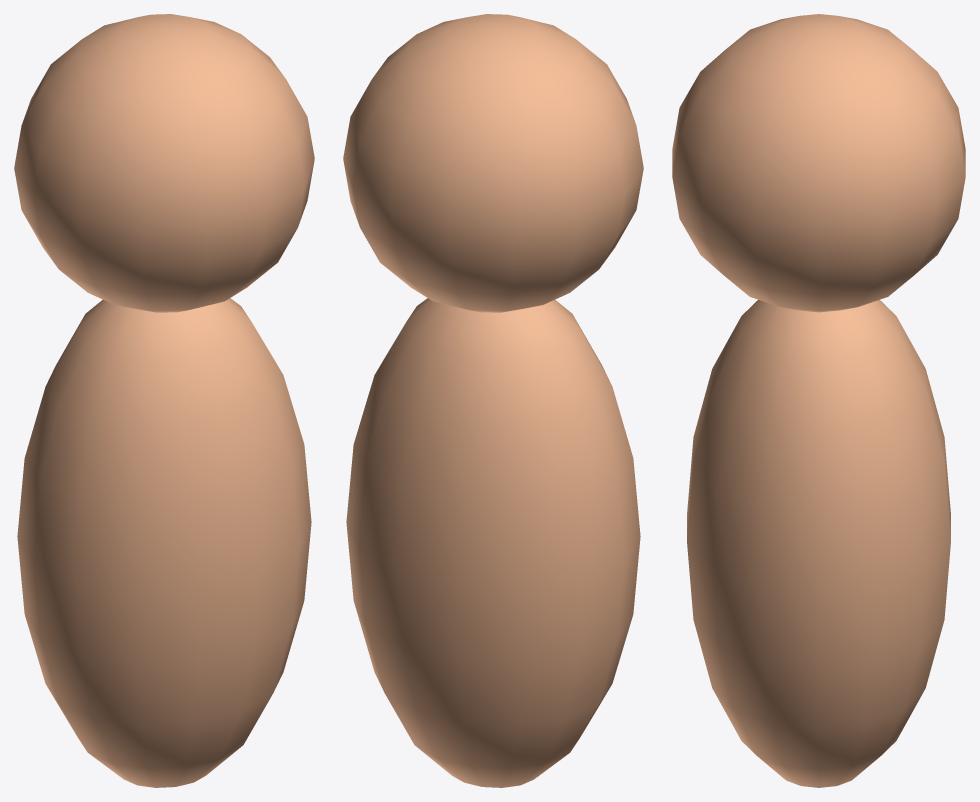
The model's file is pedestrian.glb.
3 views of the same model, side by side, from view 1: azimuth 30°, elevation 25°; view 2: azimuth 150°, elevation 25°; view 3: azimuth 270°, elevation 25° (orthographic).
Visible parts, largest first — view 1: Torso, Head; view 2: Torso, Head; view 3: Torso, Head.
Part boxes in pixels (x1,y1,x2,y2): Torso: (17,298,311,787); Head: (14,14,314,312); Torso: (346,298,640,787); Head: (343,14,643,312); Torso: (687,300,950,787); Head: (672,14,965,312).
Size of the model in its own units: 0.56 by 1.55 by 0.546.
